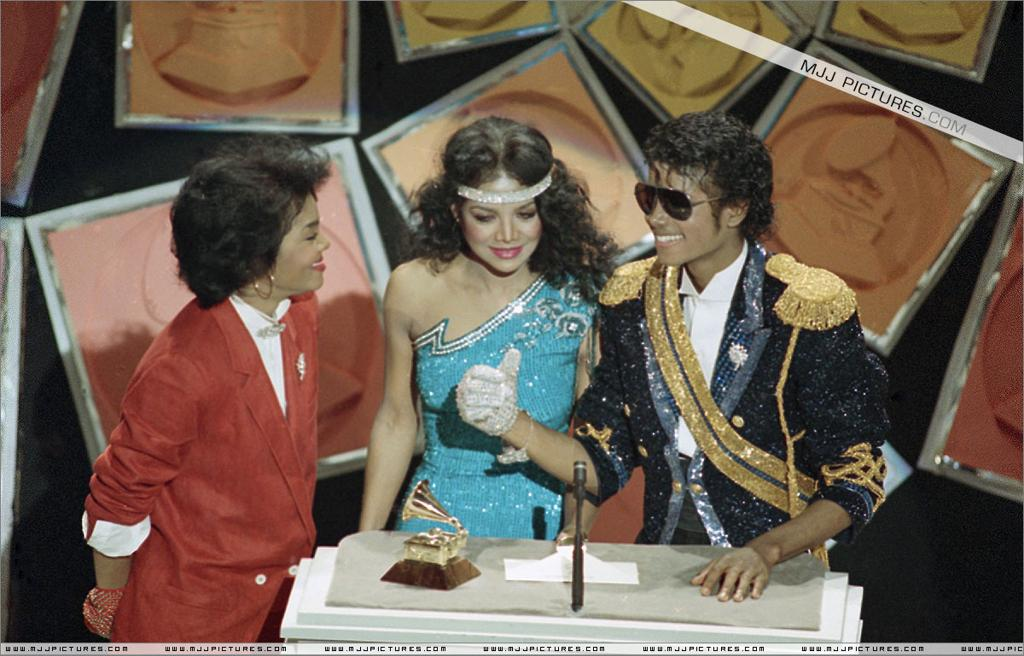face: (642, 162, 730, 266), (462, 168, 542, 270), (254, 180, 326, 292)
